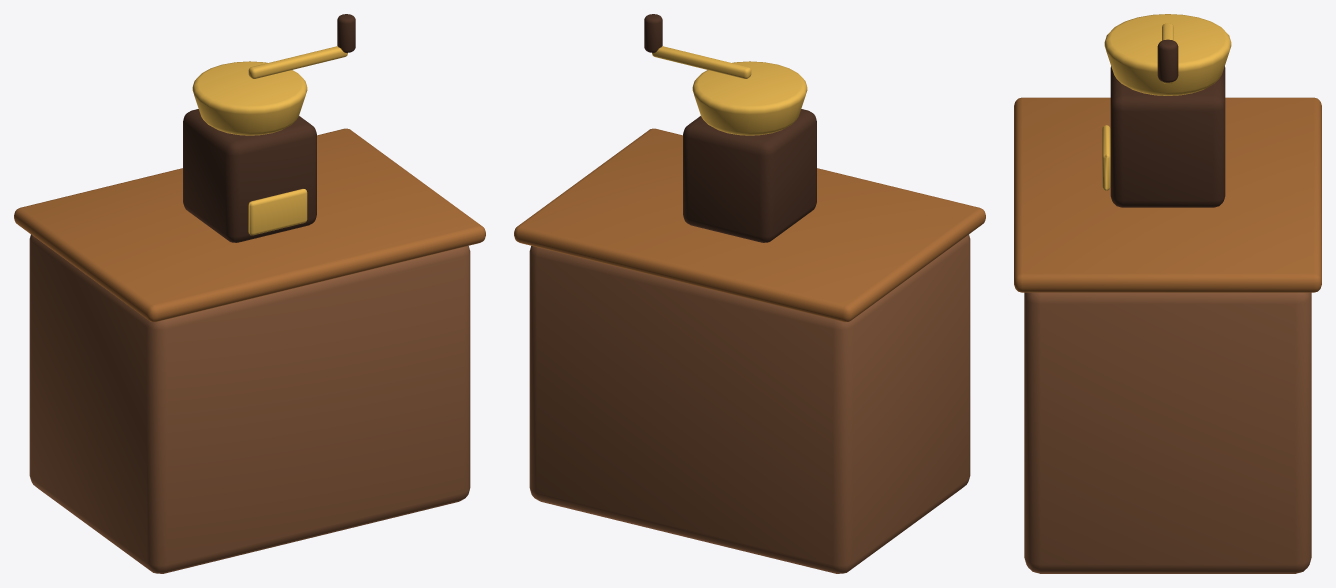
File: moulin_manuel.glb
The picture shows the model from 3 angles, left to right: view 1: azimuth 30°, elevation 25°; view 2: azimuth 150°, elevation 25°; view 3: azimuth 270°, elevation 25°; orthographic projection. The views are drawn at different scales.
Visible parts, largest first — view 1: meuble, plateau, boite, bol, tiroir, bras, poignee; view 2: meuble, plateau, boite, bol, bras, poignee; view 3: meuble, plateau, boite, bol, poignee, tiroir.
Boxes of the visible parts, <box> form: meuble: <box>29,234,470,573</box>; plateau: <box>14,128,485,322</box>; boite: <box>183,109,316,242</box>; bol: <box>192,61,307,135</box>; tiroir: <box>248,189,307,235</box>; bras: <box>248,46,347,78</box>; poignee: <box>337,14,355,52</box>; meuble: <box>529,234,970,573</box>; plateau: <box>514,128,985,322</box>; boite: <box>683,109,816,242</box>; bol: <box>692,61,807,135</box>; bras: <box>652,46,751,78</box>; poignee: <box>644,14,662,52</box>; meuble: <box>1024,292,1311,573</box>; plateau: <box>1014,97,1321,292</box>; boite: <box>1110,66,1225,207</box>; bol: <box>1104,14,1231,95</box>; poignee: <box>1157,39,1178,82</box>; tiroir: <box>1102,125,1110,190</box>.
Size of the model in its own units: 1.05 by 1.35 by 0.75.
